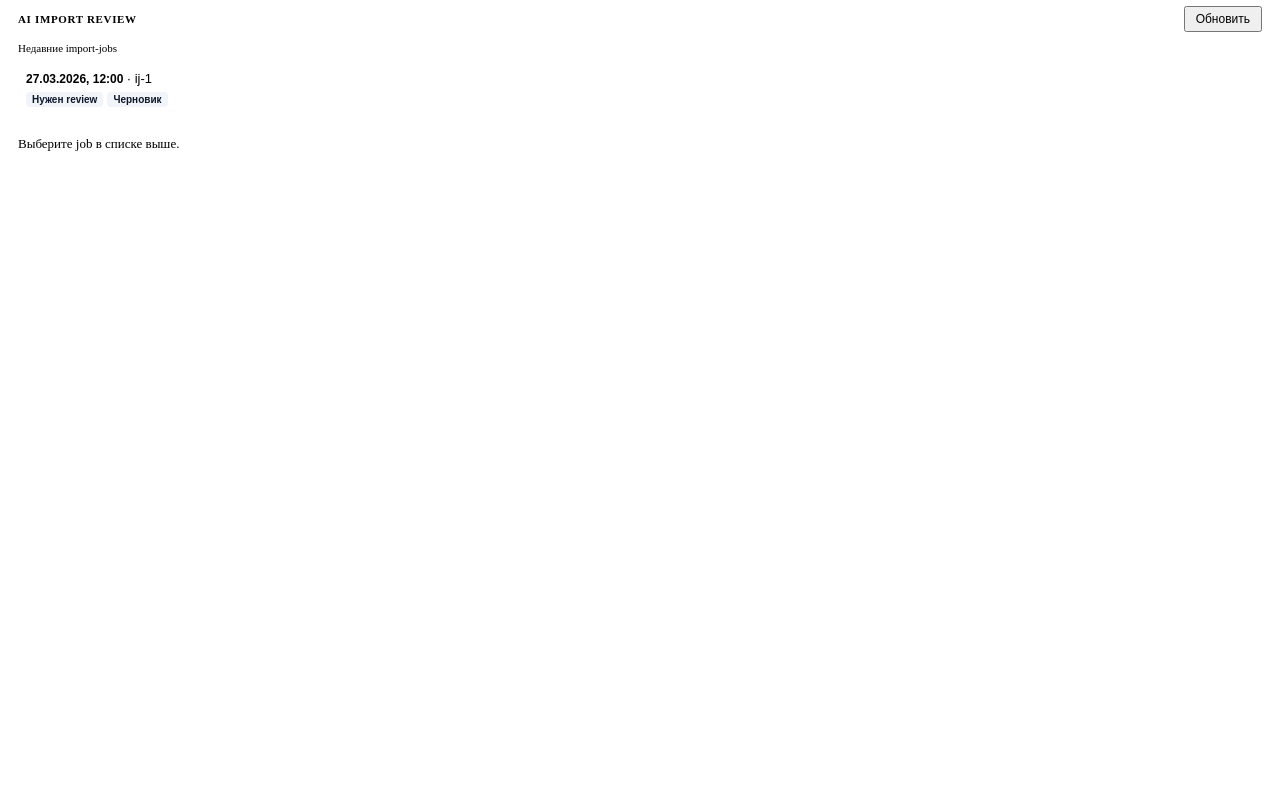
Test: ImportReviewPanel integration › сводка показывает сохранённые решения с wallIds внутренних несущих
Step 1. Click the button with test id "ir-job-row-ij-1" → click(75, 78), box x1=18 y1=62 x2=1262 y2=117
(page scrolled)
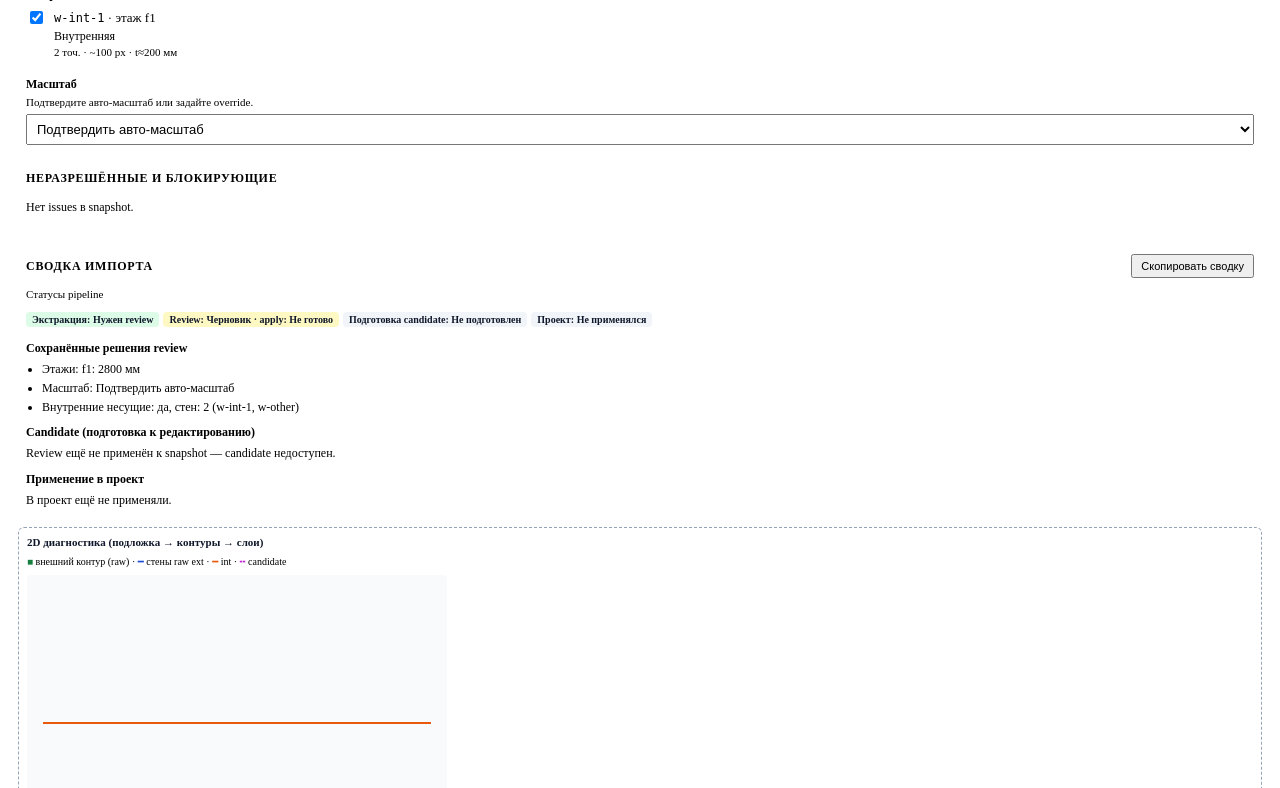
Check: the list with test id "ir-summary-saved-lines" is shown, box x1=42 y1=362 x2=299 y2=414
Check: the list with test id "ir-summary-saved-lines" shows "w-int-1", box x1=42 y1=400 x2=299 y2=414
